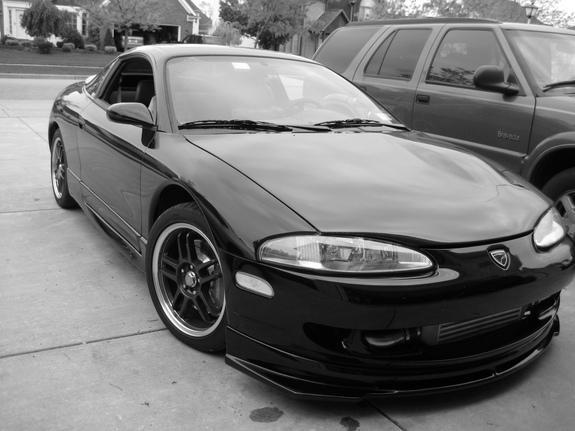car: (47, 53, 571, 405)
